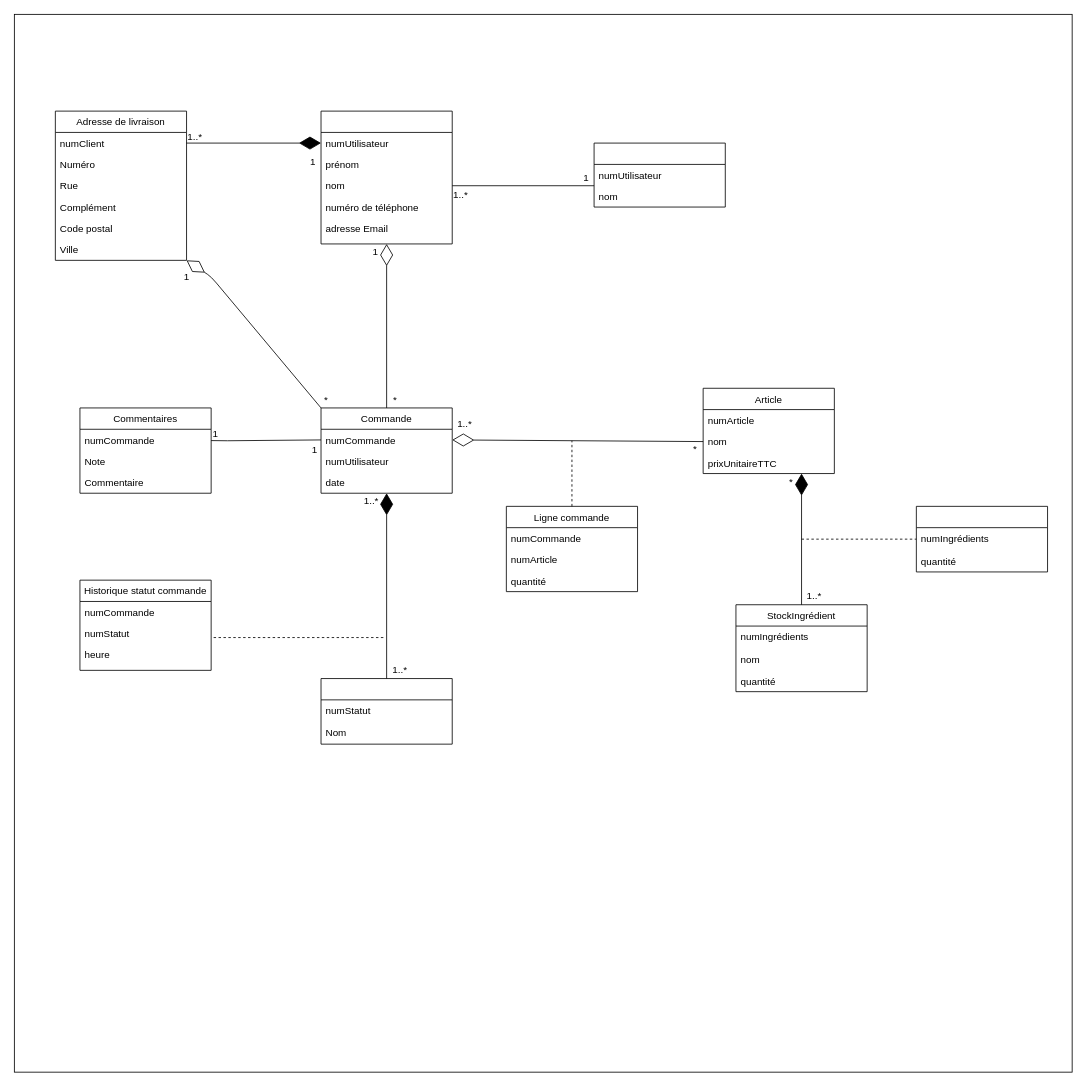
The diagram is 1087 pixels wide and 1087 high, and some of its shapes have lost their labels. The shapes that lost their labels are listed below. From the top down, each one's box as (x1, y1, x2, y2) in pixels, then its label:
(320, 110, 452, 244): Utilisateurs
(593, 142, 725, 207): Rôles
(916, 506, 1048, 572): Mémos recette
(320, 678, 452, 744): Statut commande
